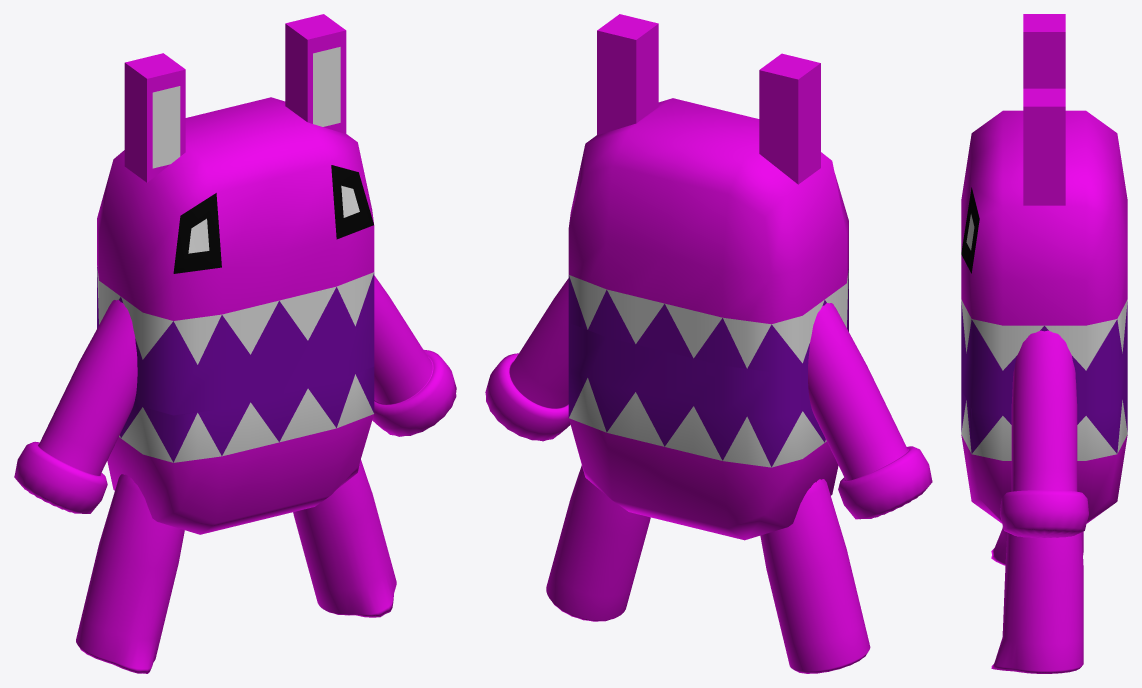
File: Anmo_Weapon.fbx
3 views of the same model, side by side, from view 1: azimuth 30°, elevation 25°; view 2: azimuth 150°, elevation 25°; view 3: azimuth 270°, elevation 25° (orthographic). The views are drawn at different scales.
Visible parts, largest first — view 1: pCube4; view 2: pCube4; view 3: pCube4.
Boxes of the visible parts, box(x1,y1,x2,y2) form: pCube4: box(14, 14, 456, 673); pCube4: box(485, 14, 932, 673); pCube4: box(961, 14, 1127, 673).
Size of the model in its own units: 11.1 by 14.49 by 3.91.
